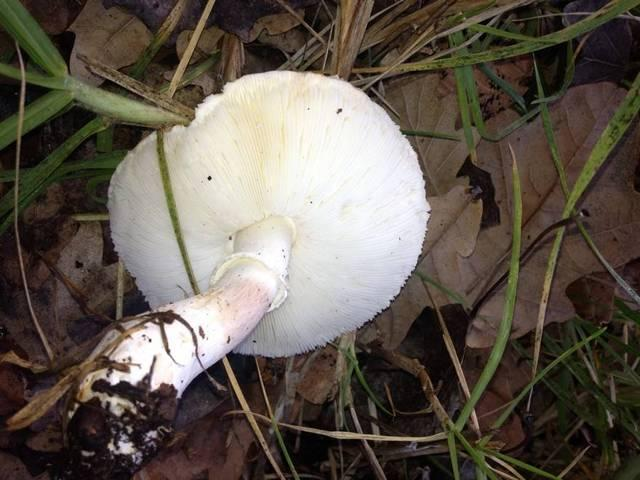Non-edible Mushroom: (58, 68, 432, 478)
